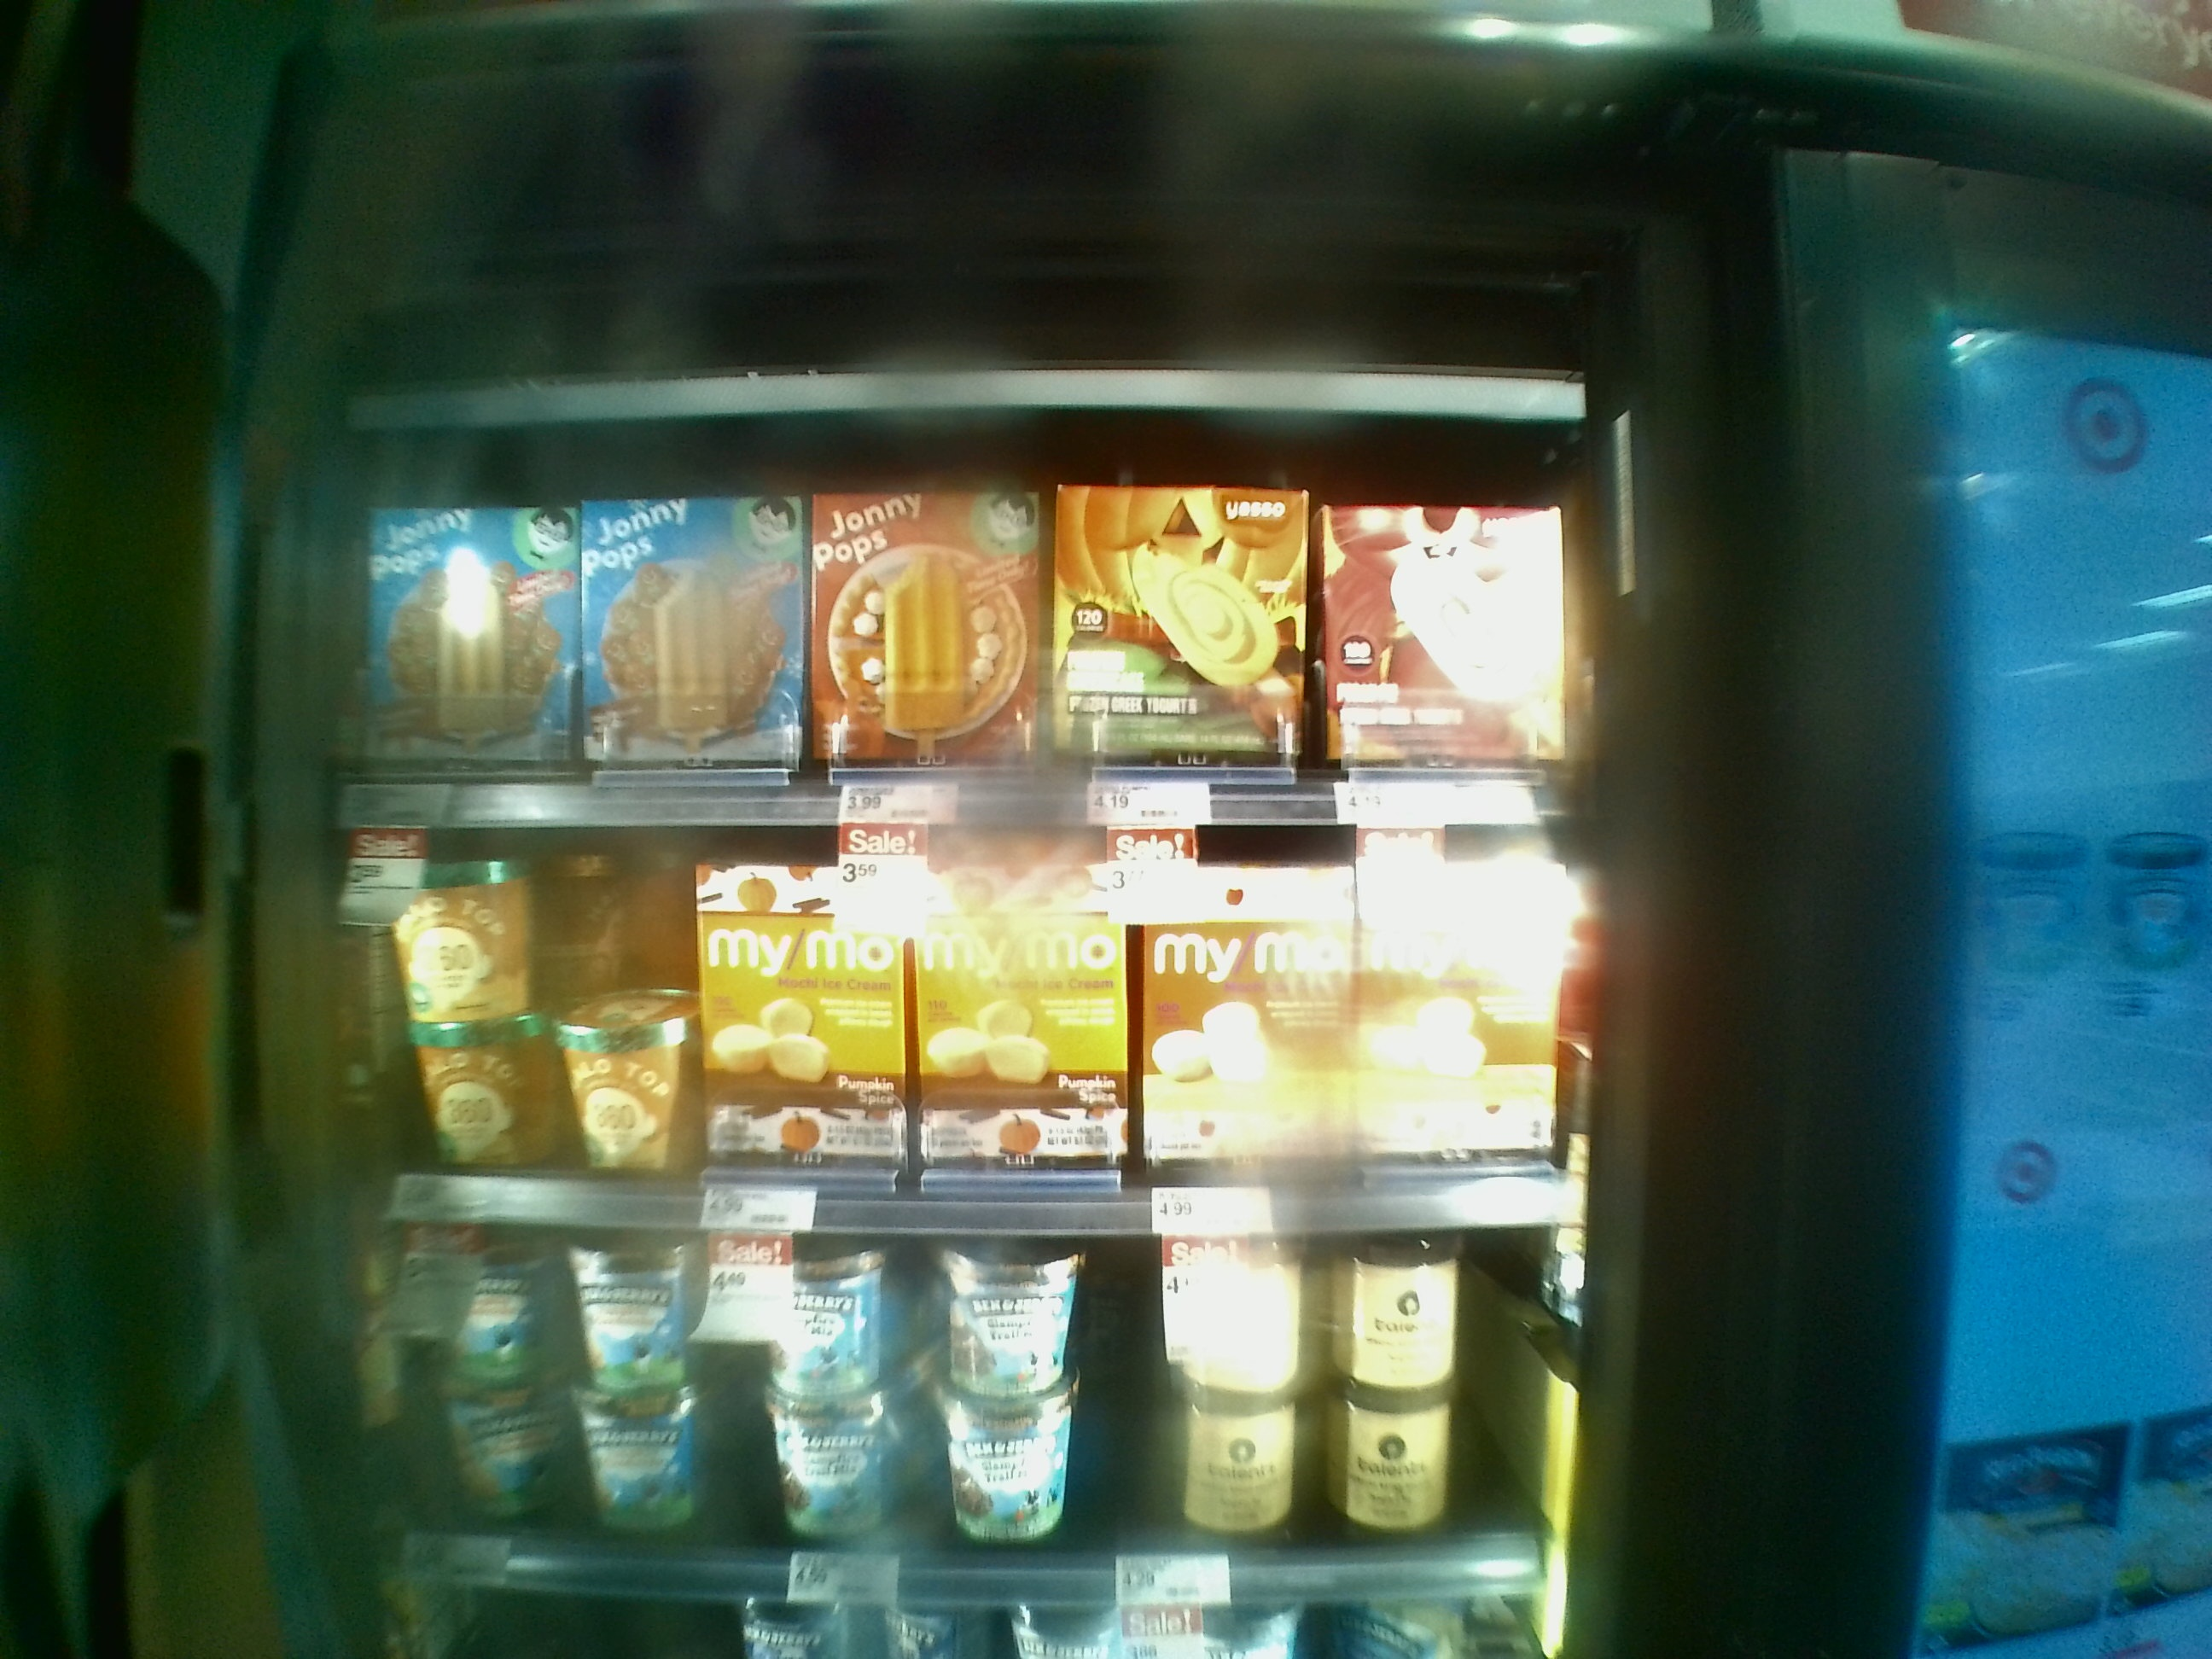shelf: (303, 802, 1587, 1230), (308, 1180, 1571, 1603), (333, 423, 1604, 828)
